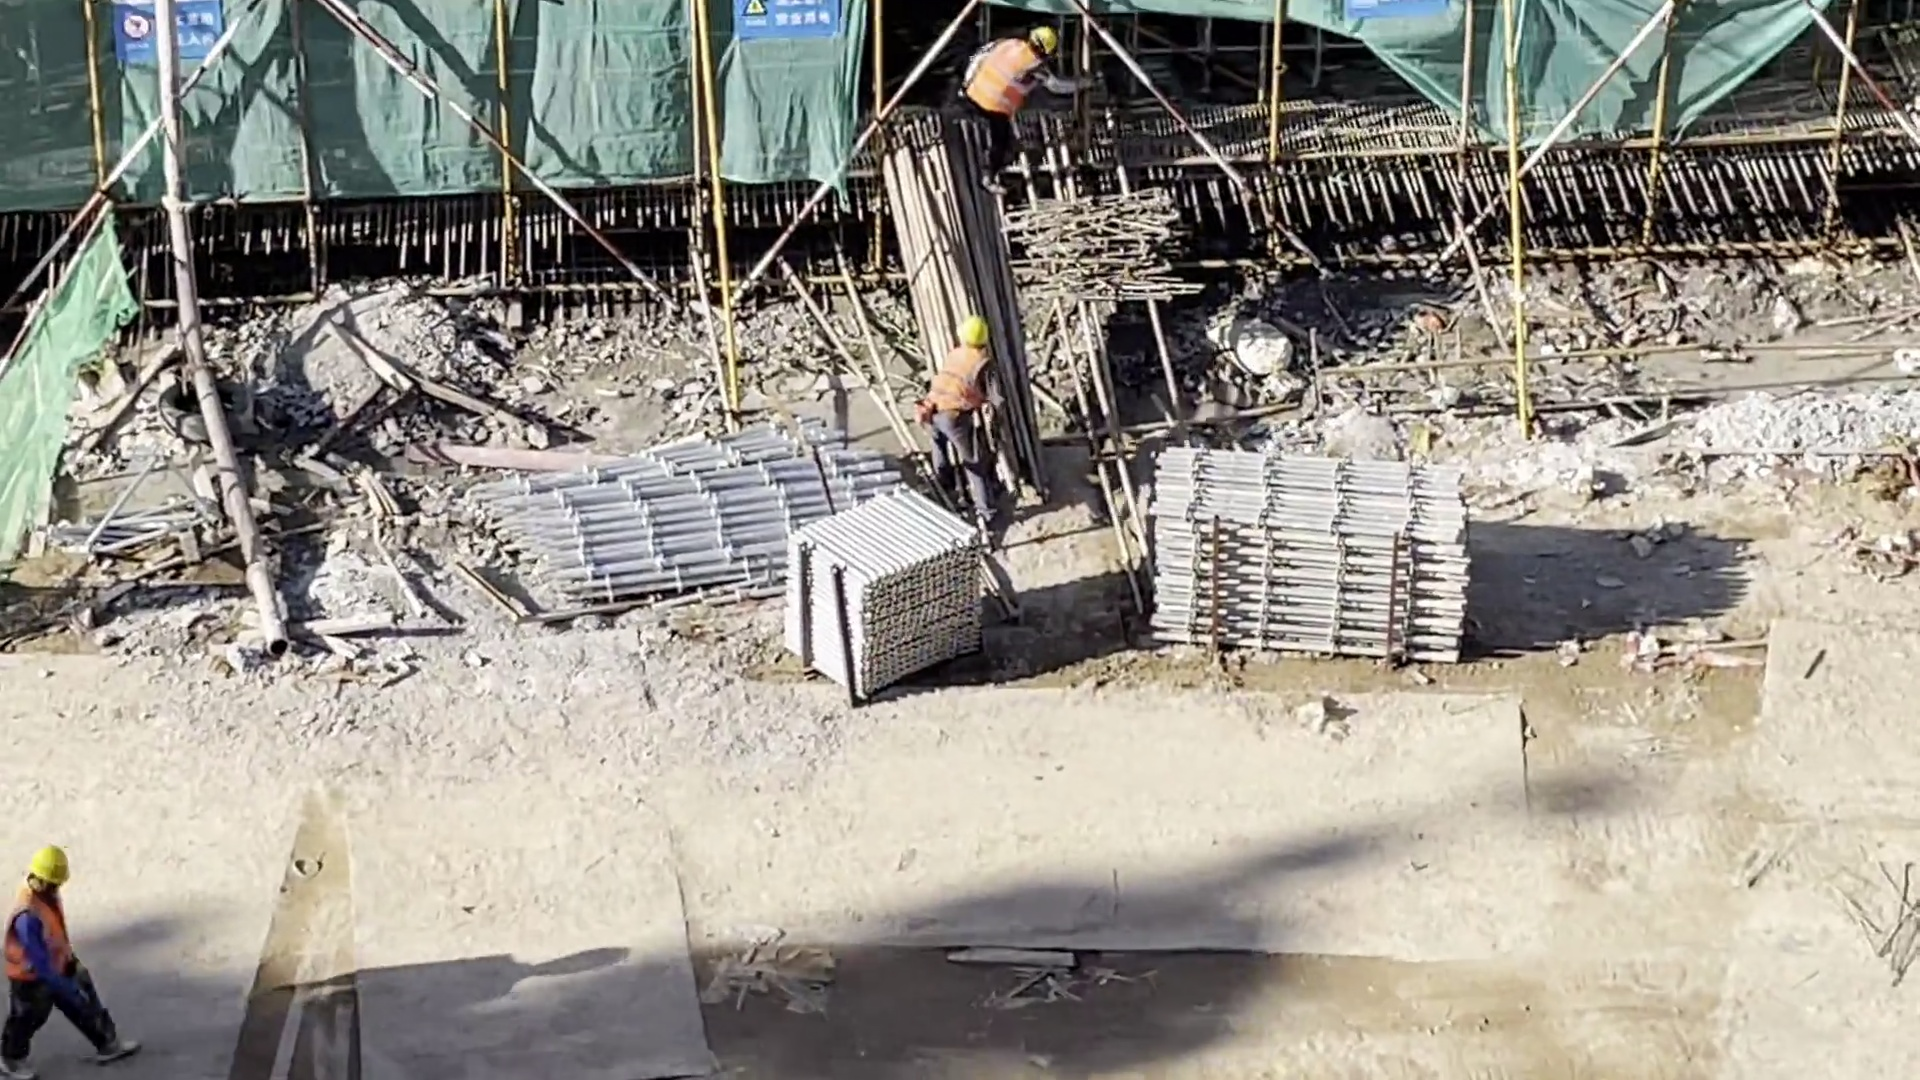helmet: (951, 302, 993, 357), (28, 839, 69, 883), (1028, 20, 1067, 58)
person: (1, 841, 140, 1076), (956, 17, 1106, 204), (910, 304, 1014, 530)
scaffold: (1137, 431, 1499, 690), (489, 408, 904, 626), (774, 480, 989, 713)
slogan: (117, 1, 231, 64), (739, 1, 857, 49)
vest: (10, 886, 86, 983), (963, 37, 1041, 113), (921, 350, 993, 419)
